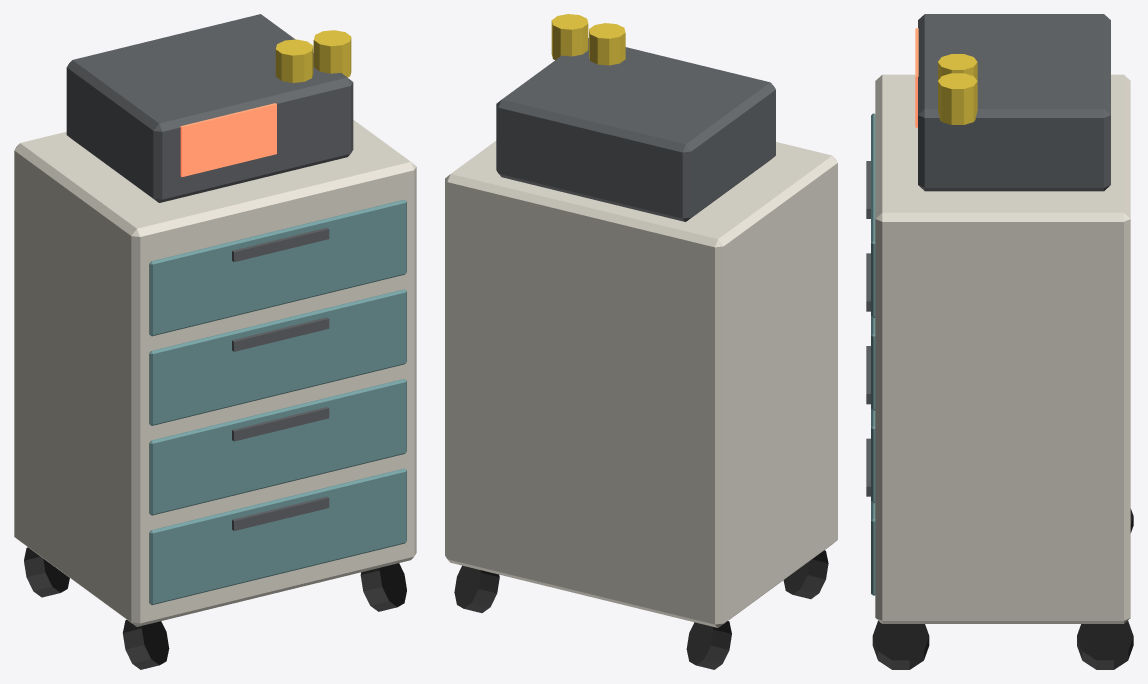
File: defib_cart.glb
3 renders of one model, left to right at view 1: azimuth 30°, elevation 25°; view 2: azimuth 150°, elevation 25°; view 3: azimuth 270°, elevation 25°, orthographic. The views are drawn at different scales.
Visible parts, largest first — view 1: defib_cart; view 2: defib_cart; view 3: defib_cart.
Part boxes in pixels (<box>): defib_cart: <box>14,14,416,669</box>; defib_cart: <box>445,14,837,669</box>; defib_cart: <box>866,14,1133,669</box>.
Bounding box in the file's own units: 0.6 × 1.11 × 0.471.
